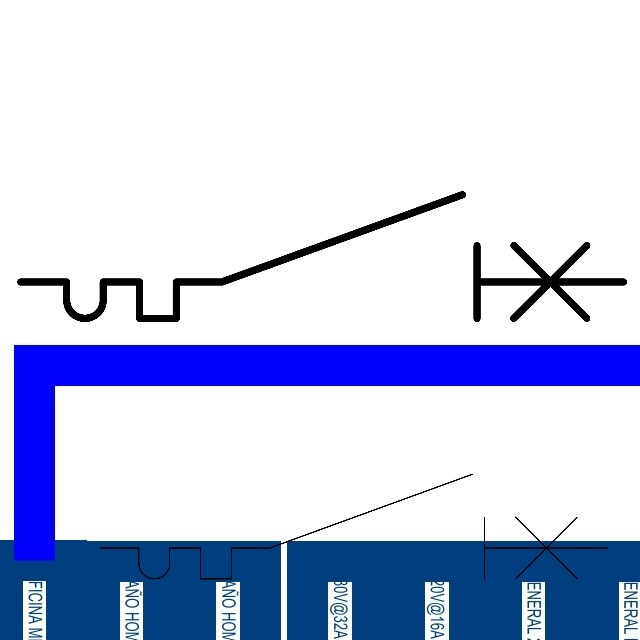interruptor_termomagnetico: (5, 179, 639, 334), (87, 461, 621, 592)
